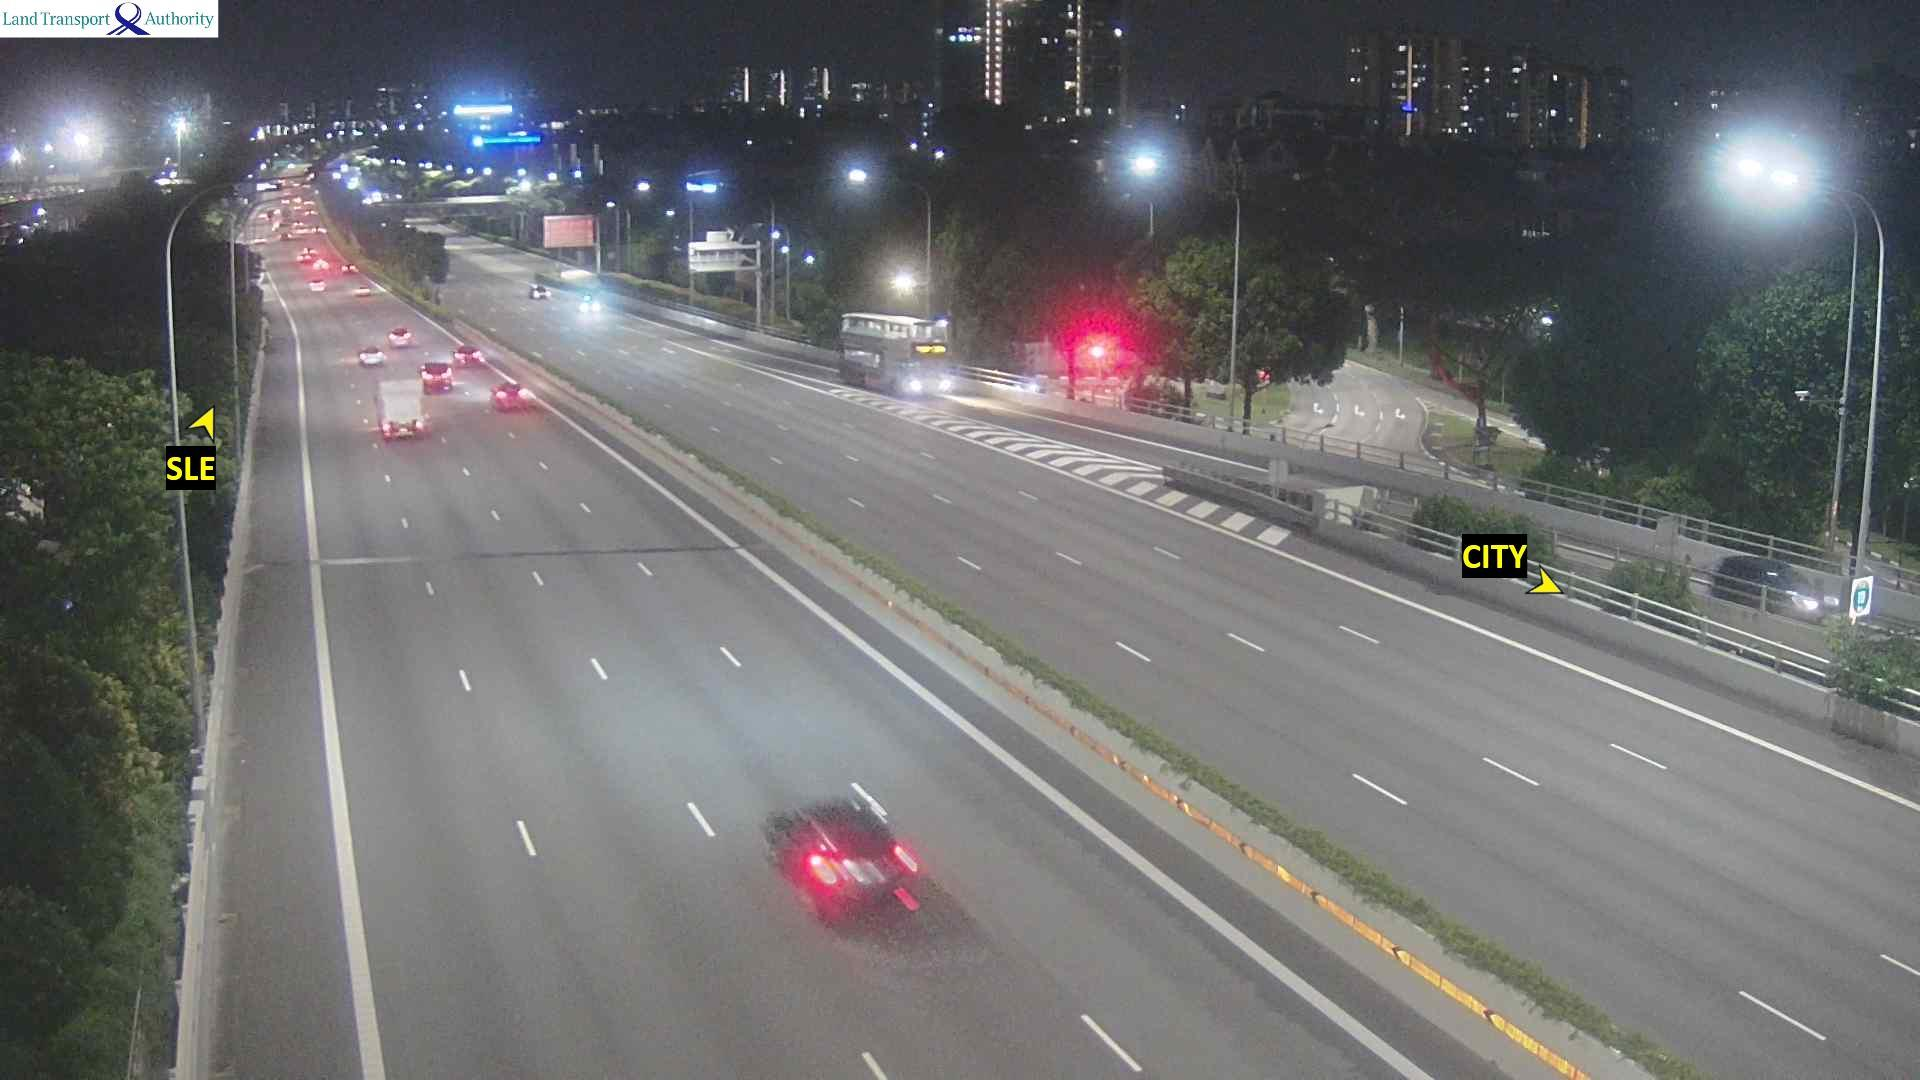bus: (836, 311, 954, 397)
cars: (763, 789, 921, 926), (1709, 553, 1838, 622), (489, 378, 528, 410), (419, 359, 452, 393), (453, 343, 483, 366), (387, 325, 414, 347), (357, 346, 385, 365), (528, 281, 550, 300), (577, 293, 597, 312), (310, 256, 332, 273), (307, 278, 329, 294), (339, 262, 361, 276), (355, 283, 372, 299), (251, 232, 268, 246), (296, 252, 311, 264), (302, 248, 321, 256), (278, 231, 293, 241)
trucks: (373, 378, 430, 439)
